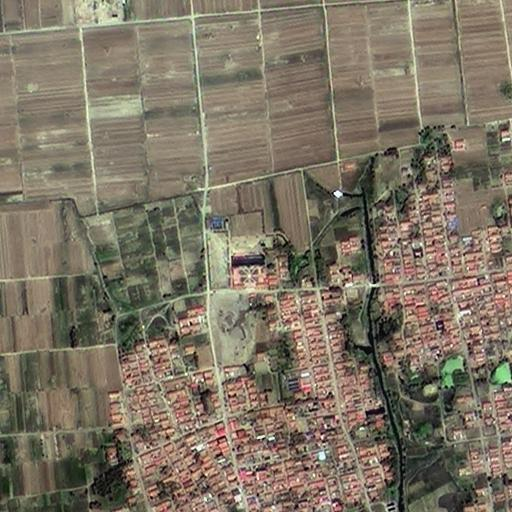school: (206, 232, 267, 289)
